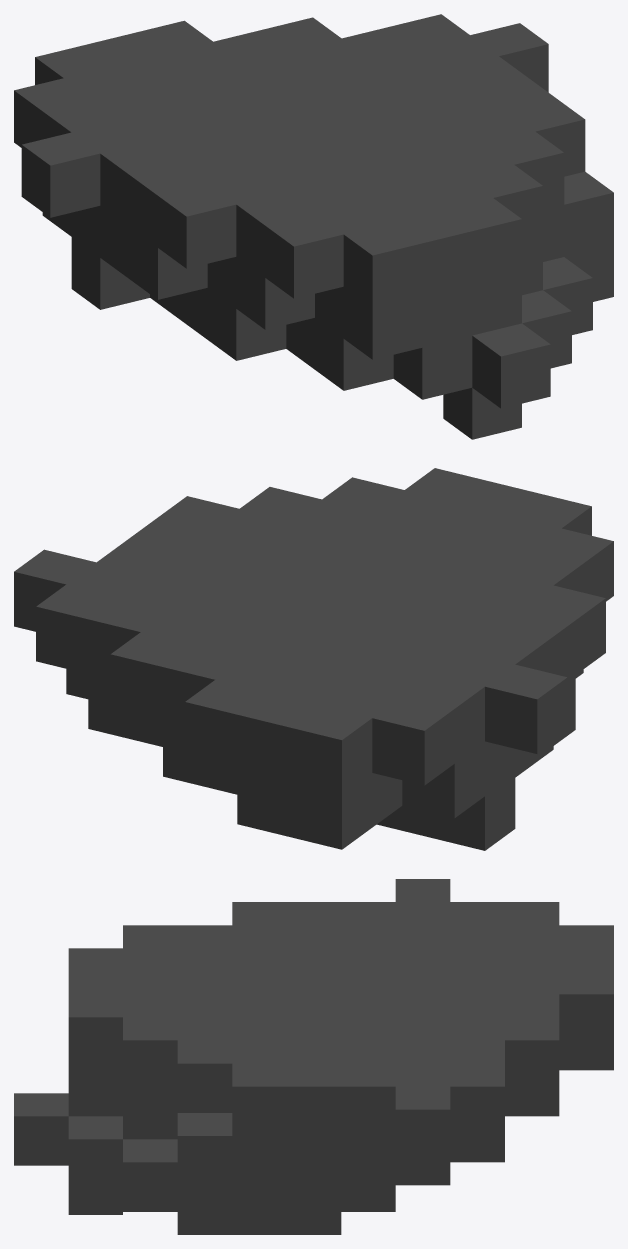
The model's file is Rocks-3.obj.
The picture shows the model from 3 angles, top to bottom: view 1: azimuth 30°, elevation 25°; view 2: azimuth 150°, elevation 25°; view 3: azimuth 270°, elevation 25°; orthographic projection. The views are drawn at different scales.
Size of the model in its own units: 1 by 0.4 by 1.1.
1 material, 1 textured.
